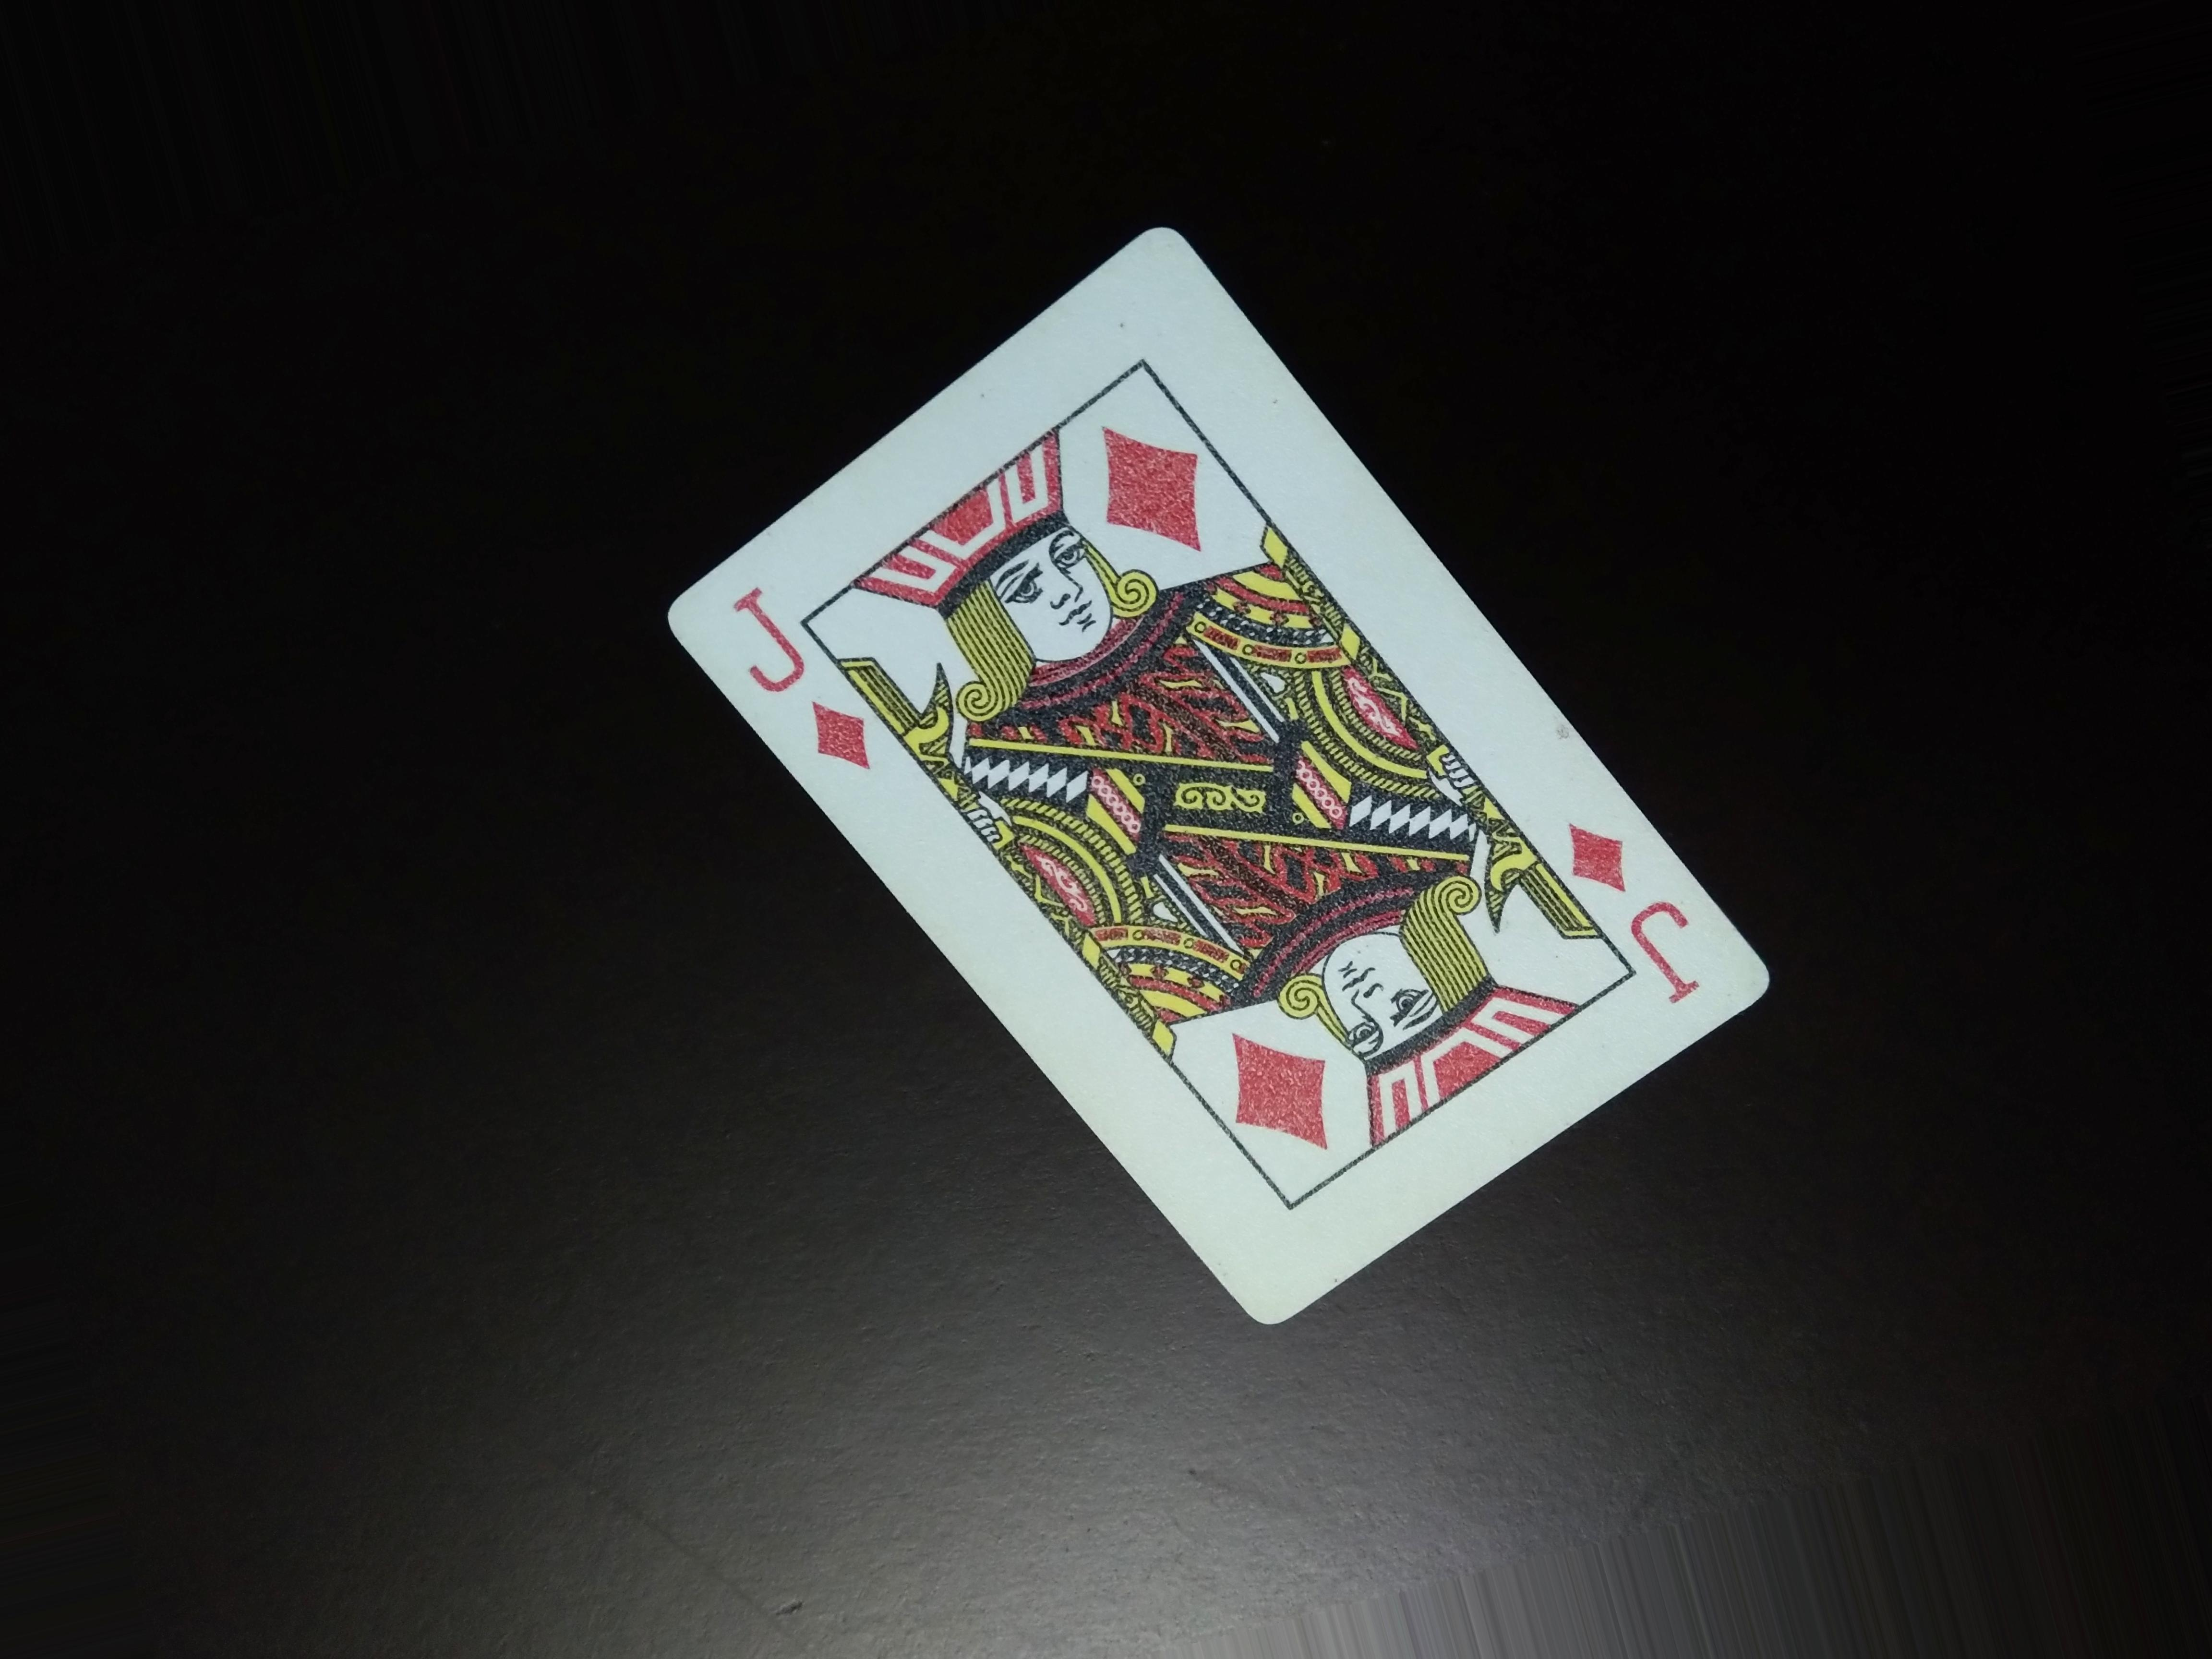JD: (728, 582, 878, 772)
